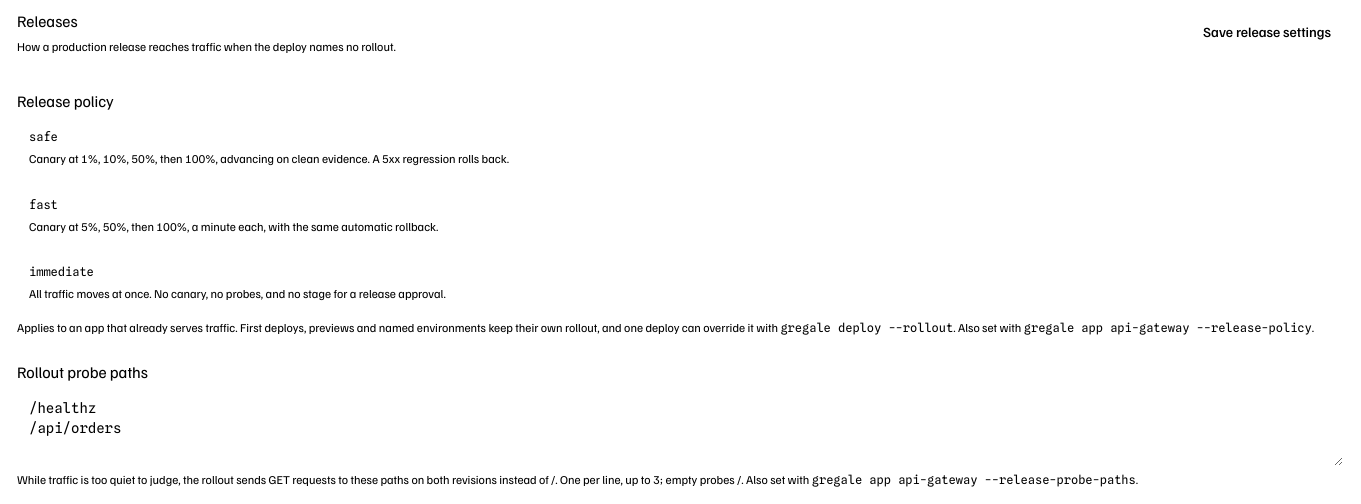
Test: AppReleaseSettings › notes the probes are idle while the policy is immediate
Click the button "immediate" at (61, 272), box [17,254,1343,314]
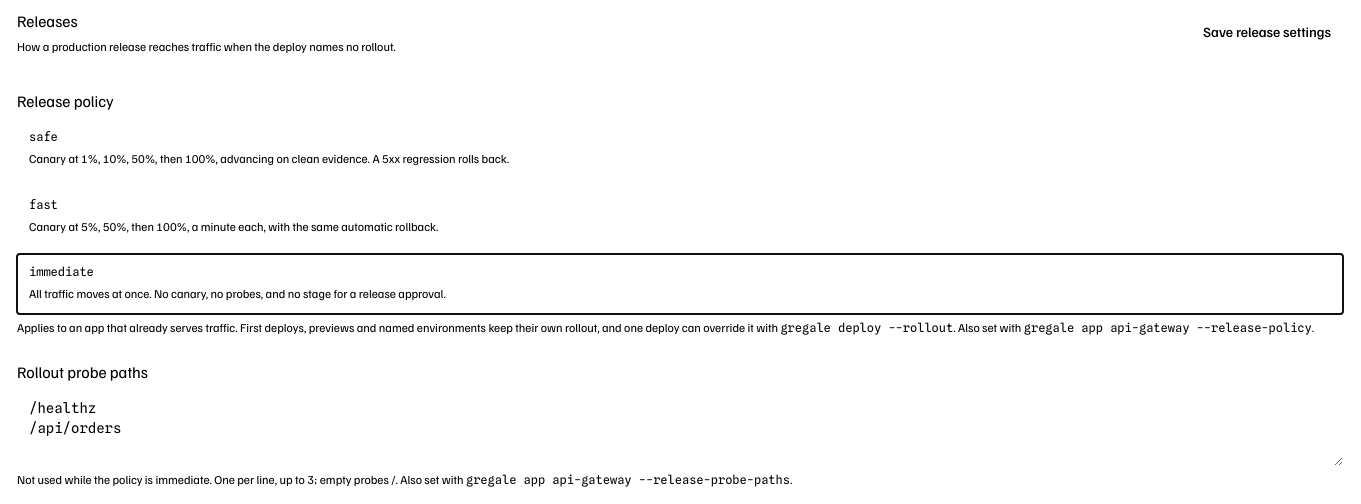
Result: the text "Not used while the policy is immediate" is shown at [17,472,214,486]
